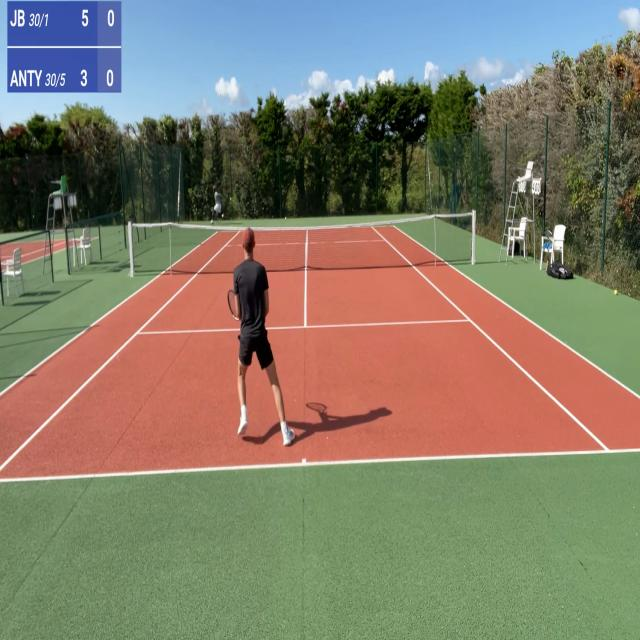ball: (284, 216, 287, 221)
